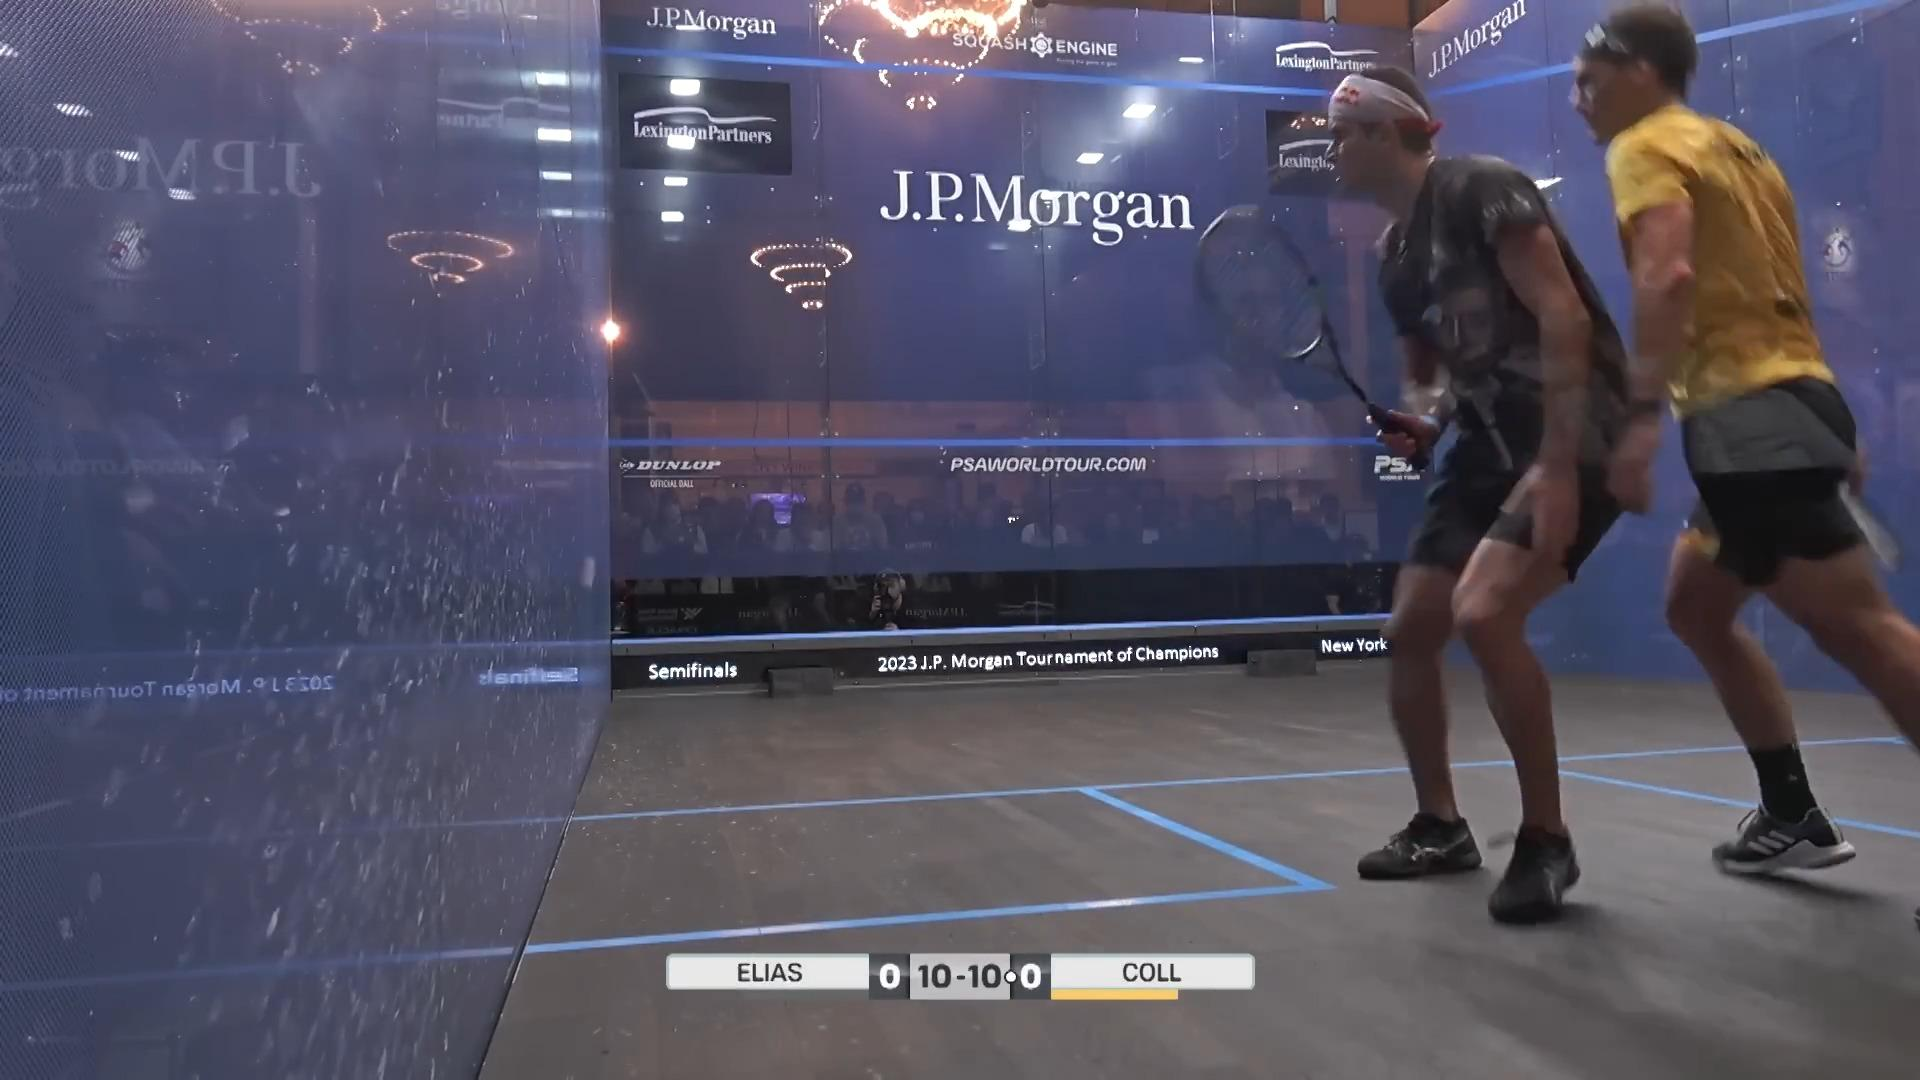Racket: (1182, 195, 1393, 431)
